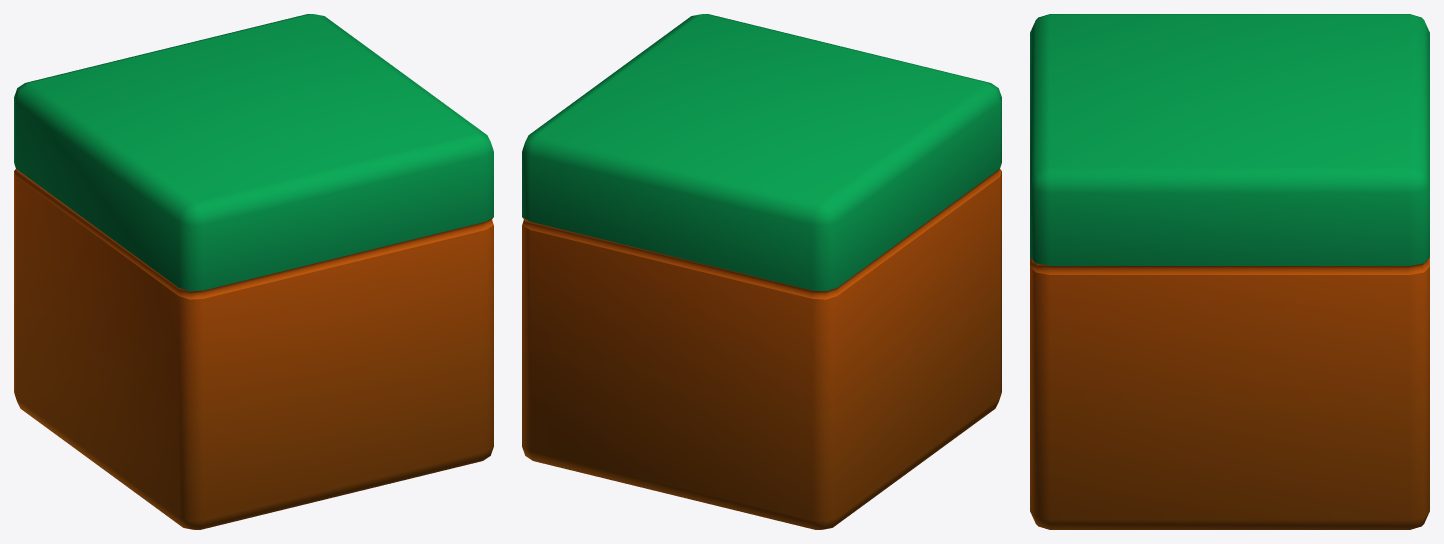
The model's file is 3D_Tile_Ground_01v03.fbx.
The picture shows the model from 3 angles, left to right: view 1: azimuth 30°, elevation 25°; view 2: azimuth 150°, elevation 25°; view 3: azimuth 270°, elevation 25°; orthographic projection. The views are drawn at different scales.
Parts seen in each view (by area): view 1: 3D_Tile_Ground_01v03; view 2: 3D_Tile_Ground_01v03; view 3: 3D_Tile_Ground_01v03.
Boxes of the visible parts, x1,y1,x2,y2 form: 3D_Tile_Ground_01v03: (14,14,493,529); 3D_Tile_Ground_01v03: (522,14,1001,529); 3D_Tile_Ground_01v03: (1030,14,1429,529).
Size of the model in its own units: 200 by 200 by 200.
